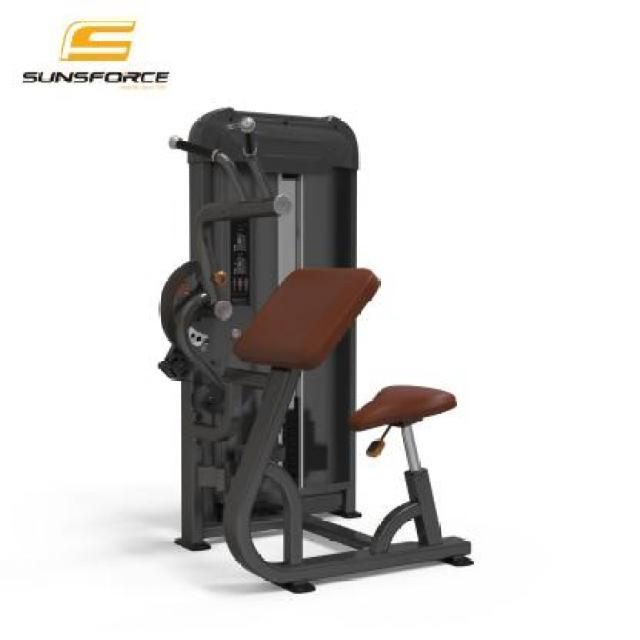arm curl machine: (158, 108, 474, 592)
